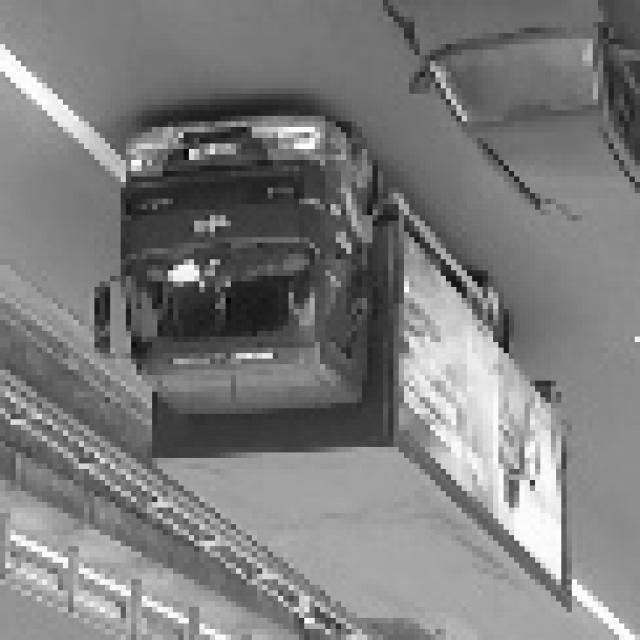truck: (75, 92, 401, 428)
